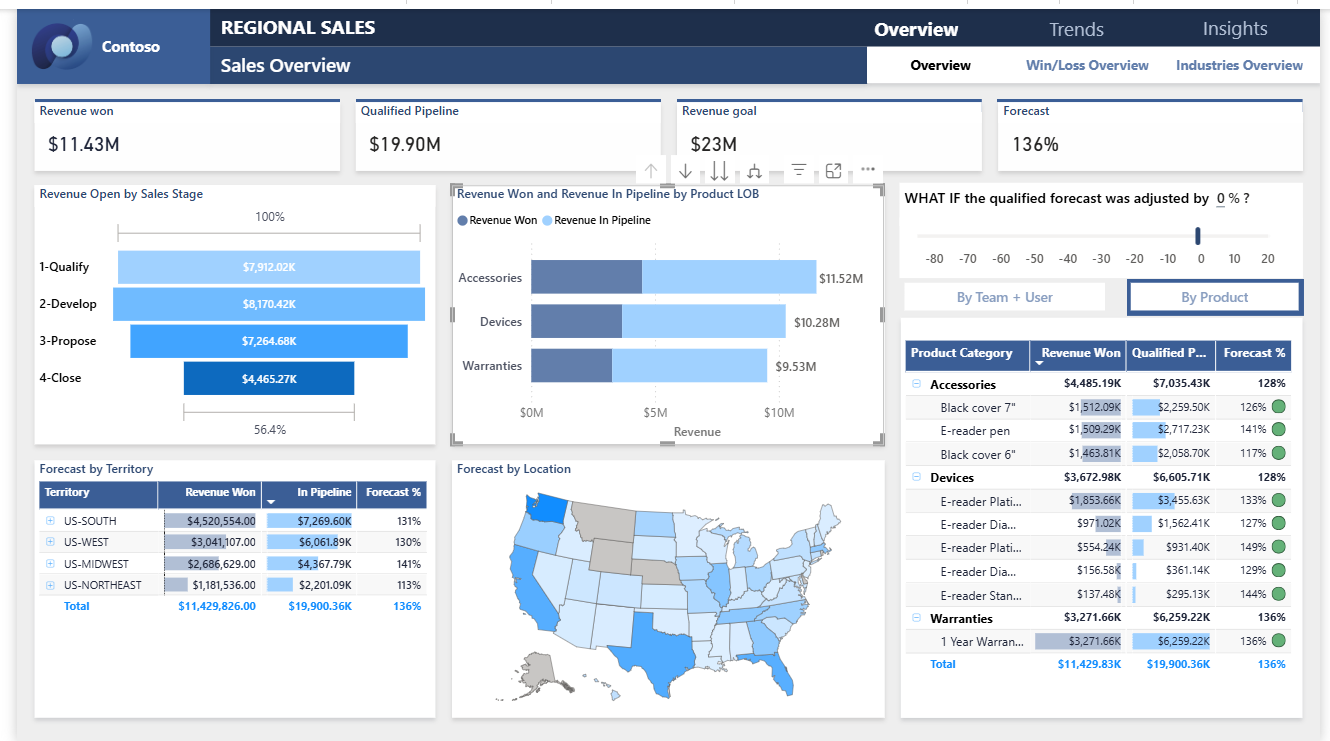

Layout of this report page (visuals, bound fields, positions):
{"tool":"powerbi","page":{"name":"Sales Overview","canvas":[1280,720],"ordinal":0},"visuals":[{"type":"shape","title":"Horizontal Shape","box":[189.1,36.4,645.5,37],"z":0,"group":"g1"},{"type":"shape","title":"Horizontal Shape","box":[834.2,37,445.8,35.8],"z":1000,"group":"g1"},{"type":"kpi","title":"Forecast","fields":{"Indicator":["Opportunities.Forecast %"],"TrendLine":["Opportunities.Blank"]},"box":[962.8,90.7,299.5,68.1],"z":1000},{"type":"shape","title":"Horizontal Shape","box":[189.1,0.2,1090.4,36.9],"z":2000,"group":"g1"},{"type":"columnChart","fields":{"Category":["Opportunity Forecast Adjustment.Forecast Adjustment"],"Y":["Sum(Opportunity Forecast Adjustment.Blank)"]},"box":[866.1,204.4,396.4,59],"z":2000},{"type":"group","id":"g1","title":"Header Background","box":[0,0,1280,73.8],"z":3000},{"type":"shape","title":"Horizontal Shape","box":[0,0,189.2,73.8],"z":3000,"group":"g1"},{"type":"shape","title":"KPI Bar 4","box":[962.5,88.2,299.7,12.4],"z":4000},{"type":"kpi","title":"Revenue goal","fields":{"Indicator":["Owners.Rev Goal"],"TrendLine":["Opportunities.Blank"]},"box":[647.8,90.7,299.5,68.1],"z":5000},{"type":"shape","title":"KPI Bar 3","box":[648.2,88.3,299.6,12.5],"z":7000},{"type":"pivotTable","title":"Revenue and forecast by Product","fields":{"Rows":["Products.Product LOB","Products.Product"],"Values":["Opportunities.Revenue Won","Opportunities.Revenue In Pipeline","Opportunities.Forecast %"]},"box":[867.9,303.5,394.5,392.6],"z":8000},{"type":"kpi","title":"Qualified Pipeline","fields":{"Indicator":["Opportunities.Revenue In Pipeline"],"TrendLine":["Opportunities.Blank"]},"box":[332.4,90.7,299.5,68.1],"z":9000},{"type":"shape","title":"KPI Bar 2","box":[332.3,88.2,299.7,12.4],"z":10000},{"type":"kpi","title":"Revenue won","fields":{"Indicator":["Opportunities.Revenue Won"],"TrendLine":["Opportunities.Blank"]},"box":[17.1,91,300,67.8],"z":11000},{"type":"shape","title":"KPI Bar 1","box":[17.3,88.2,299.7,12.4],"z":12000},{"type":"actionButton","title":"Button - By Team / User","box":[870.7,269.2,196.8,26.9],"z":14000},{"type":"shape","title":"Button Header - by Product","box":[1089.1,264.5,173.6,36.2],"z":15000},{"type":"actionButton","title":"Button - By Product","box":[1093.4,269.1,165,26.9],"z":16000},{"type":"barChart","title":"Revenue Won and Revenue In Pipeline by Product LOB","fields":{"Category":["Products.Product LOB","Products.Product"],"Y":["Opportunities.Revenue Won","Opportunities.Revenue In Pipeline"]},"box":[427,173.6,425.1,254.3],"z":18000},{"type":"shapeMap","title":"Forecast by Location","fields":{"Category":["Accounts.Street Hierarchy.State or Province"],"Value":["Opportunities.Revenue In Pipeline"]},"box":[427,442.8,425.1,252.5],"z":19000},{"type":"funnel","fields":{"Category":["Opportunities.PipelineStep"],"Y":["Opportunities.Revenue Open"]},"box":[17.6,173.6,393.6,254.3],"z":20000},{"type":"pivotTable","title":"Forecast by Territory","fields":{"Rows":["Territories.Territory","Accounts.State or Province"],"Values":["Opportunities.Revenue Won","Opportunities.Revenue In Pipeline","Opportunities.Forecast %"]},"box":[17.6,442.8,393.6,252.5],"z":21000},{"type":"slicer","title":"Forecast Adjustment","fields":{"Values":["Forecast Adjustment.Forecast Adjustment"]},"box":[870.6,171.9,372.4,67.5],"z":22000},{"type":"actionButton","title":"Btn - Insights","box":[1157.3,0.2,122.3,36.7],"z":23000},{"type":"actionButton","title":"Btn - Trends","box":[1006.1,0,121.4,37],"z":24000},{"type":"actionButton","title":"Btn - Overview","box":[834.3,0,122.2,37],"z":25000},{"type":"image","title":"Company Logo","box":[9.2,0,68.6,73.6],"z":26000},{"type":"actionButton","title":"Company Name","box":[77.9,0,111.7,73.6],"z":27000},{"type":"textbox","title":"Report Title","box":[195.2,37.2,438.7,36.5],"z":28000},{"type":"textbox","title":"Report Title Category","box":[195.2,0,438.7,37.2],"z":29000},{"type":"textbox","title":"Label - Mgr Forecast Override","box":[866.1,170.6,396.4,42.2],"z":30000},{"type":"actionButton","title":"Btn - Trend Analytics","box":[978.1,38.2,148.6,33.2],"z":31000},{"type":"actionButton","title":"Btn - Pipeline","box":[838.9,38.2,137.7,33.2],"z":32000},{"type":"actionButton","title":"Btn - Trend Analytics","box":[1128.1,38.2,147.8,33.2],"z":33000}]}

Visuals, with their boxes in screenshot pixels (x1, y1, x2, y2), scaled from the page's 1280x720 canvas onto the 1330x741 screenshot:
"Horizontal Shape" shape: detection(196, 37, 867, 76)
"Horizontal Shape" shape: detection(867, 38, 1329, 75)
"Forecast" kpi: detection(1000, 93, 1312, 163)
"Horizontal Shape" shape: detection(196, 0, 1329, 38)
columnChart - Opportunity Forecast Adjustment.Forecast Adjustment x Sum(Opportunity Forecast Adjustment.Blank): detection(900, 210, 1312, 271)
"Header Background" group: detection(0, 0, 1329, 76)
"Horizontal Shape" shape: detection(0, 0, 197, 76)
"KPI Bar 4" shape: detection(1000, 91, 1312, 104)
"Revenue goal" kpi: detection(673, 93, 984, 163)
"KPI Bar 3" shape: detection(674, 91, 985, 104)
"Revenue and forecast by Product" pivotTable: detection(902, 312, 1312, 716)
"Qualified Pipeline" kpi: detection(345, 93, 657, 163)
"KPI Bar 2" shape: detection(345, 91, 657, 104)
"Revenue won" kpi: detection(18, 94, 329, 163)
"KPI Bar 1" shape: detection(18, 91, 329, 104)
"Button - By Team / User" actionButton: detection(905, 277, 1109, 305)
"Button Header - by Product" shape: detection(1132, 272, 1312, 309)
"Button - By Product" actionButton: detection(1136, 277, 1308, 305)
"Revenue Won and Revenue In Pipeline by Product LOB" barChart: detection(444, 179, 885, 440)
"Forecast by Location" shapeMap: detection(444, 456, 885, 716)
funnel - Opportunities.PipelineStep x Opportunities.Revenue Open: detection(18, 179, 427, 440)
"Forecast by Territory" pivotTable: detection(18, 456, 427, 716)
"Forecast Adjustment" slicer: detection(905, 177, 1292, 246)
"Btn - Insights" actionButton: detection(1203, 0, 1329, 38)
"Btn - Trends" actionButton: detection(1045, 0, 1172, 38)
"Btn - Overview" actionButton: detection(867, 0, 994, 38)
"Company Logo" image: detection(10, 0, 81, 76)
"Company Name" actionButton: detection(81, 0, 197, 76)
"Report Title" textbox: detection(203, 38, 659, 76)
"Report Title Category" textbox: detection(203, 0, 659, 38)
"Label - Mgr Forecast Override" textbox: detection(900, 176, 1312, 219)
"Btn - Trend Analytics" actionButton: detection(1016, 39, 1171, 73)
"Btn - Pipeline" actionButton: detection(872, 39, 1015, 73)
"Btn - Trend Analytics" actionButton: detection(1172, 39, 1326, 73)
